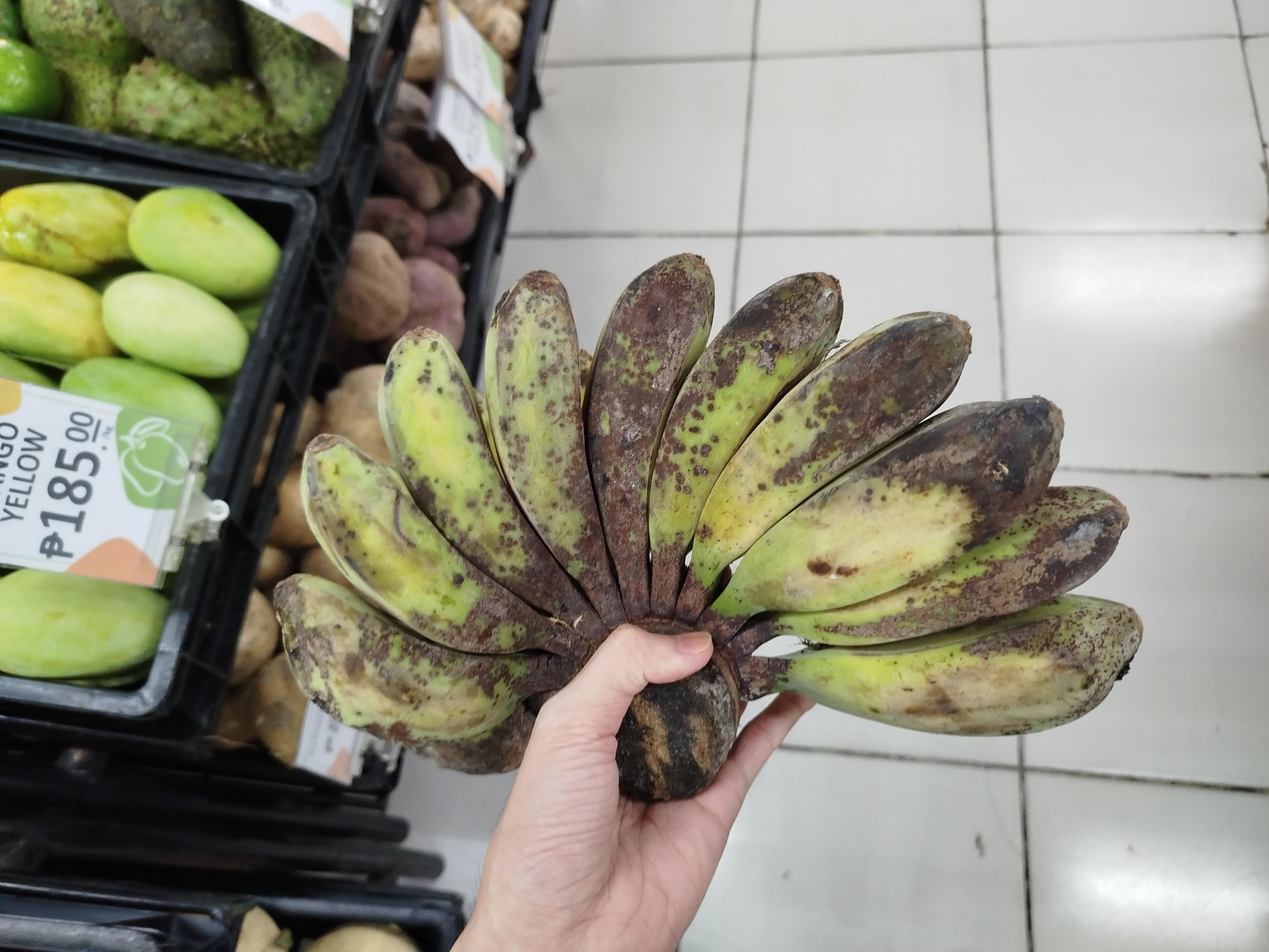underripe: (274, 254, 1143, 773)
